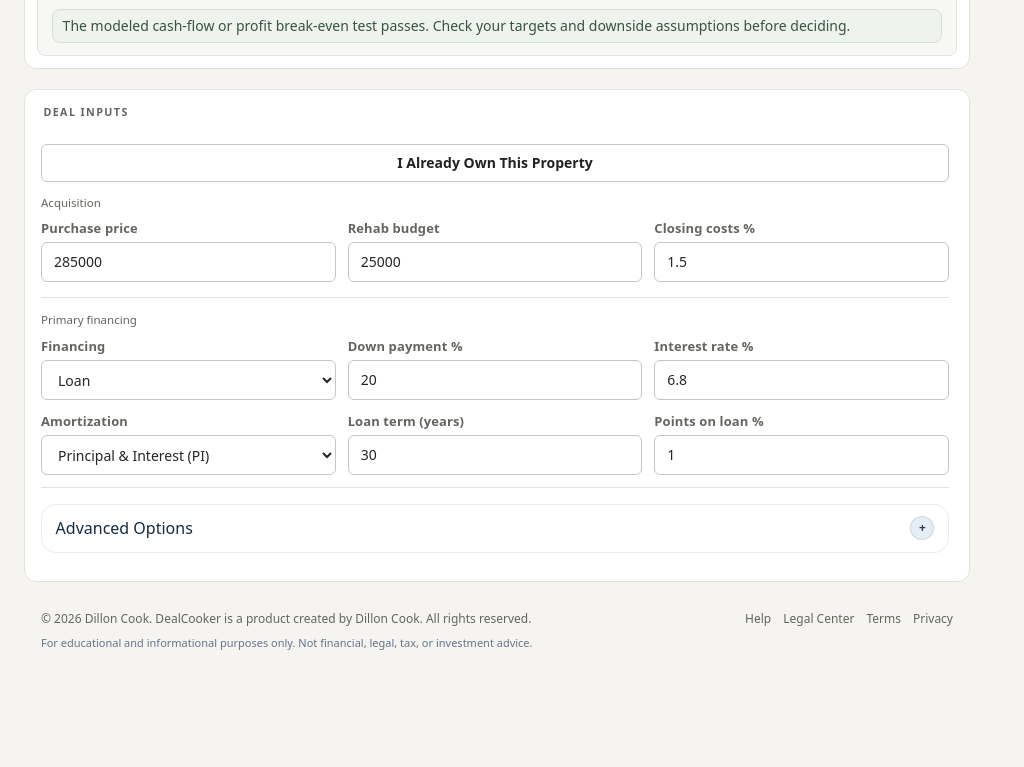
Test: dashboard integration › names the invalid loan field in the actual desktop result gate
The image size is (1024, 767).
(page scrolled)
Replace the text in the number field labelled "Loan term (years)" with "0" at (495,455), box [348,435,642,475]
(page scrolled)
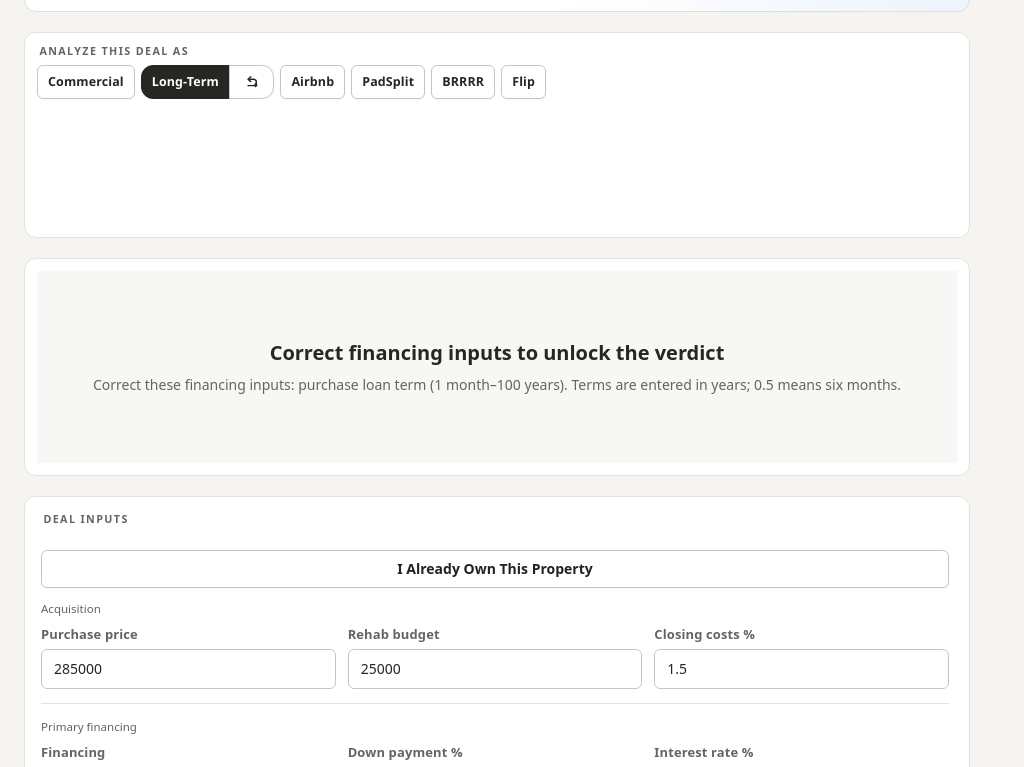
Expected: the text "Correct these financing inputs: purchase loan term" is shown, [93,374,901,394]
